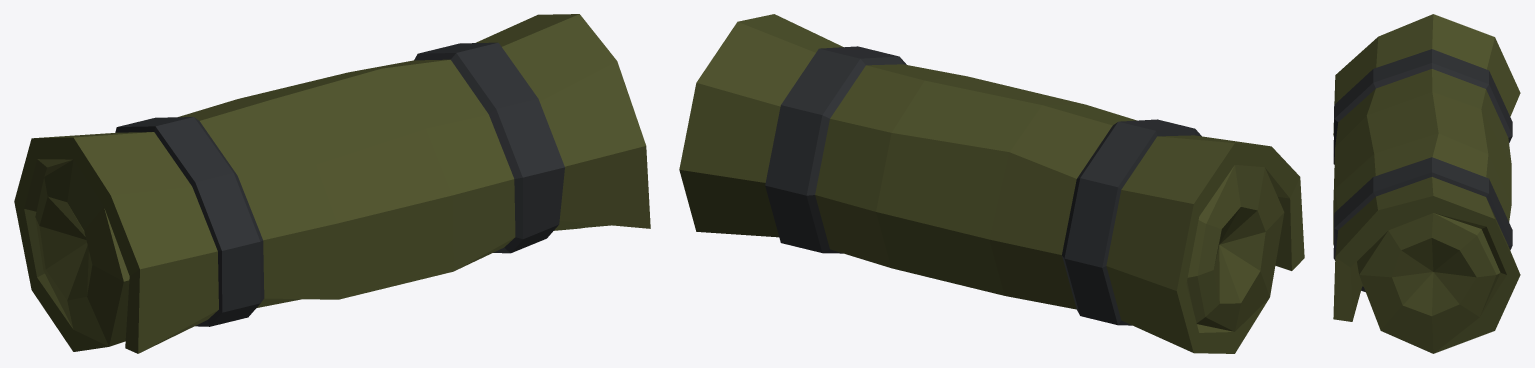
Rendered from SM_Prop_Bed_SleepingBag_Roll_01.fbx.
3 views of the same model, side by side, from view 1: azimuth 30°, elevation 25°; view 2: azimuth 150°, elevation 25°; view 3: azimuth 270°, elevation 25° (orthographic). The views are drawn at different scales.
Parts seen in each view (by area): view 1: SM_Prop_Bed_SleepingBag_Roll_01; view 2: SM_Prop_Bed_SleepingBag_Roll_01; view 3: SM_Prop_Bed_SleepingBag_Roll_01.
Part boxes in pixels (x1,y1,x2,y2): SM_Prop_Bed_SleepingBag_Roll_01: [14, 14, 650, 353]; SM_Prop_Bed_SleepingBag_Roll_01: [679, 14, 1304, 353]; SM_Prop_Bed_SleepingBag_Roll_01: [1333, 14, 1520, 353].
Size of the model in its own units: 89.13 by 35.24 by 37.82.
